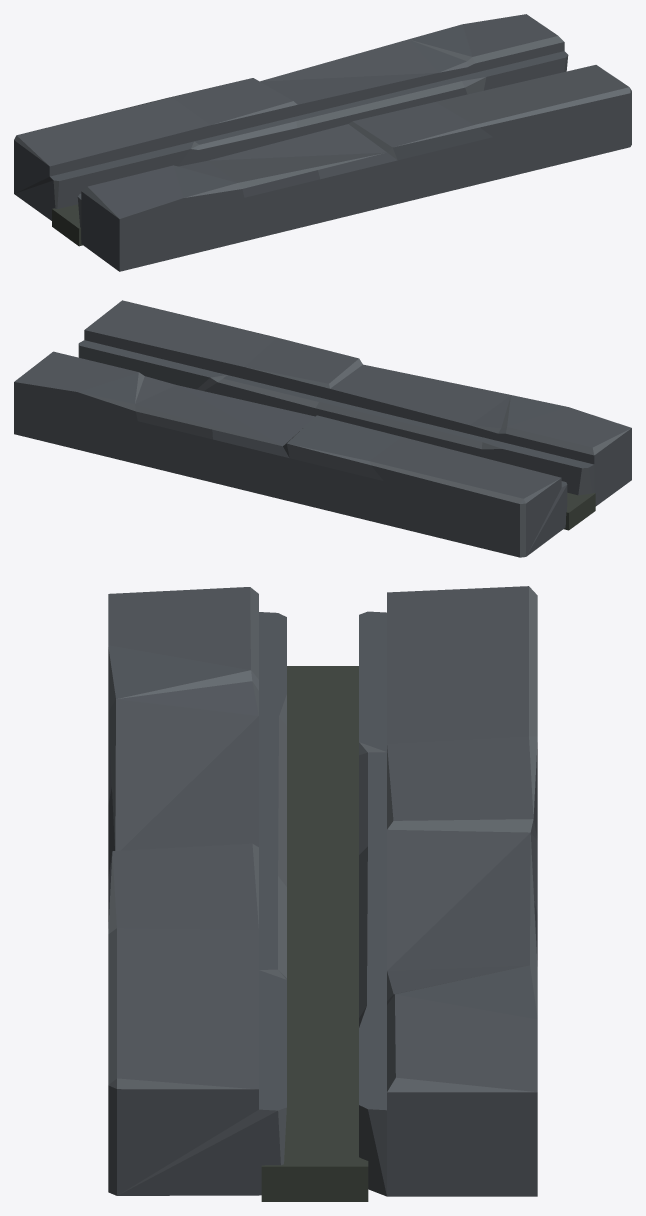
The model's file is MCastle_GateFloor.FBX.
3 views of the same model, one above another, from view 1: azimuth 30°, elevation 25°; view 2: azimuth 150°, elevation 25°; view 3: azimuth 270°, elevation 25° (orthographic). The views are drawn at different scales.
Parts seen in each view (by area): view 1: MCastle_GateFloor_LOD0; view 2: MCastle_GateFloor_LOD0; view 3: MCastle_GateFloor_LOD0.
Boxes of the visible parts, left/top/right/bottom form: MCastle_GateFloor_LOD0: left=14, top=14, right=631, bottom=271; MCastle_GateFloor_LOD0: left=14, top=300, right=631, bottom=557; MCastle_GateFloor_LOD0: left=108, top=586, right=537, bottom=1201.
Size of the model in its own units: 3.22 by 0.3598 by 1.17.
